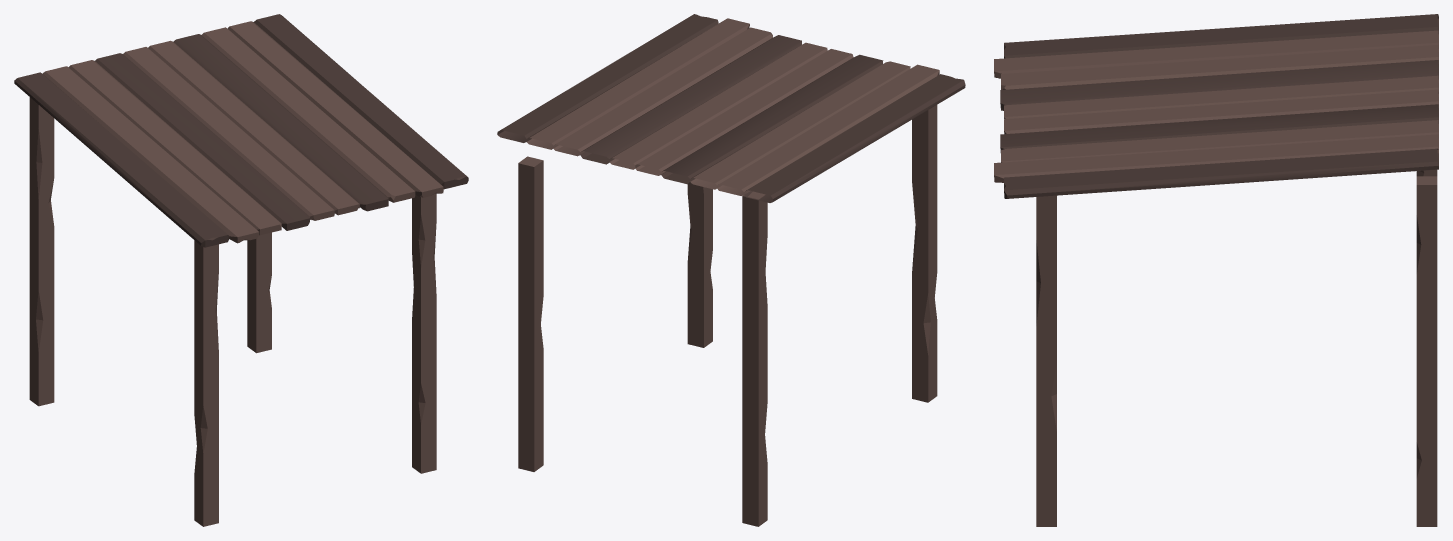
The model's file is SM_Env_Stall_03.fbx.
3 renders of one model, left to right at view 1: azimuth 30°, elevation 25°; view 2: azimuth 150°, elevation 25°; view 3: azimuth 270°, elevation 25°, orthographic. The views are drawn at different scales.
Visible parts, largest first — view 1: SM_Env_Stall_03; view 2: SM_Env_Stall_03; view 3: SM_Env_Stall_03.
Boxes of the visible parts, left/top/right/bottom form: SM_Env_Stall_03: left=14, top=14, right=468, bottom=526; SM_Env_Stall_03: left=497, top=14, right=965, bottom=526; SM_Env_Stall_03: left=994, top=14, right=1438, bottom=526.
Size of the model in its own units: 150 by 174 by 188.
Materials: 1 (1 with a texture image).
